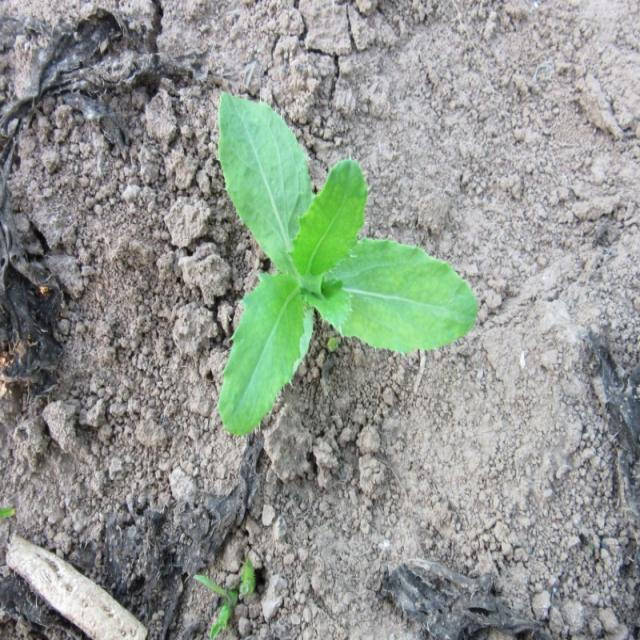cs: (218, 90, 479, 438)
